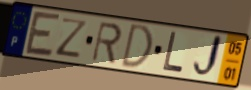D: (119, 22, 154, 70)
E: (23, 10, 63, 60)
J: (191, 33, 225, 81)
L: (160, 30, 185, 76)
R: (90, 21, 124, 66)
Z: (54, 17, 90, 60)
